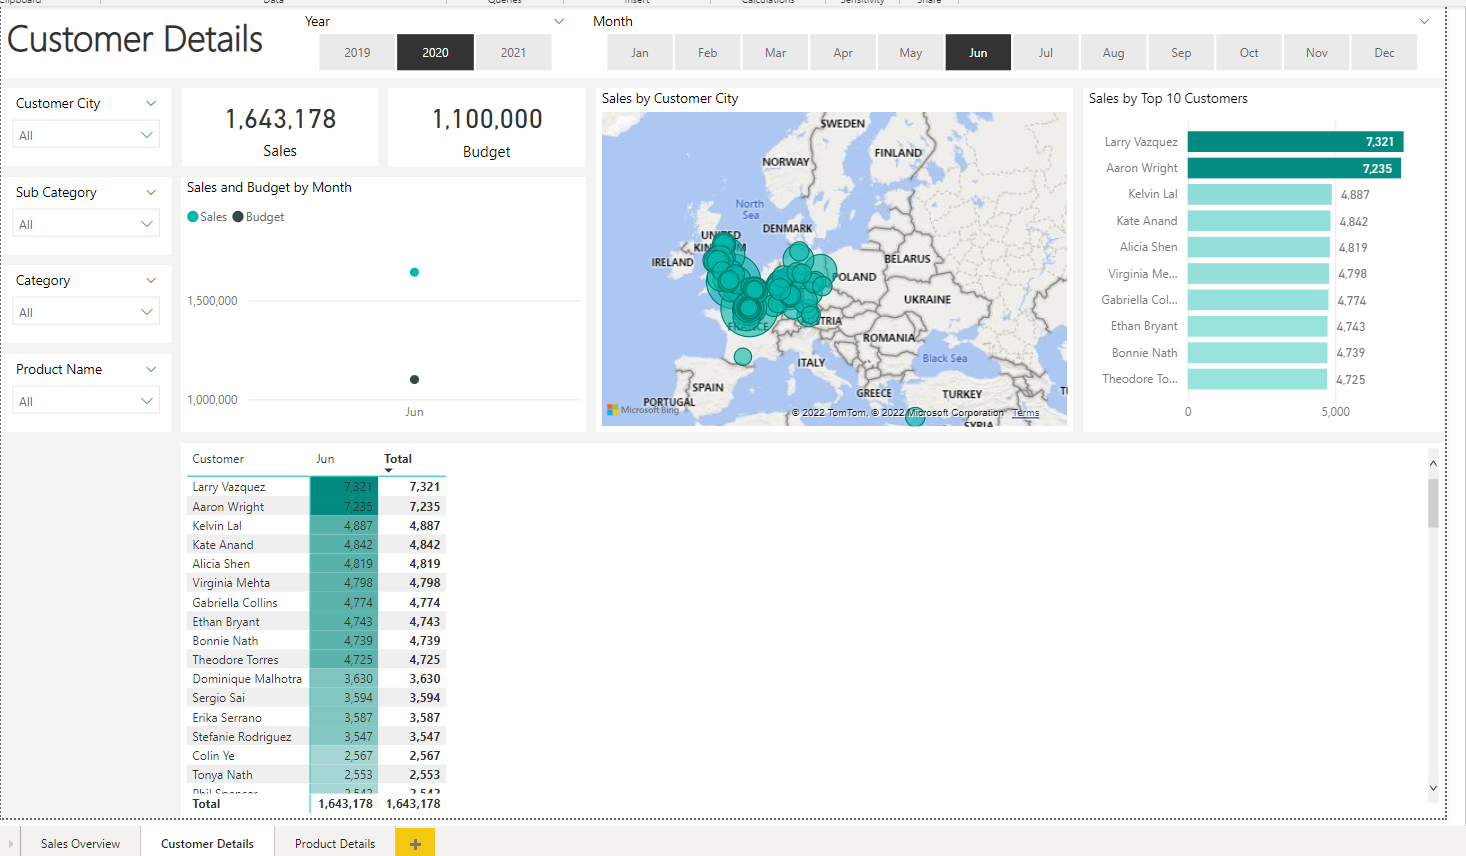

Layout of this report page (visuals, bound fields, positions):
{"tool":"powerbi","page":{"name":"Customer Details","canvas":[1280,720],"ordinal":1},"visuals":[{"type":"textbox","box":[0,0,1280,64],"z":0},{"type":"slicer","fields":{"Values":["DIM_Calendar.Year"]},"box":[256,0,256,64],"z":1000},{"type":"slicer","fields":{"Values":["DIM_Calendar.MonthShort"]},"box":[512,0,768,64],"z":2000},{"type":"slicer","fields":{"Values":["DIM_Customers.Customer City"]},"box":[0,73,150.5,69.3],"z":3000},{"type":"slicer","fields":{"Values":["DIM_Products.Product Category"]},"box":[0,229.9,150.5,69.3],"z":4000},{"type":"slicer","fields":{"Values":["DIM_Products.Product Name"]},"box":[0,308.4,150.5,69.3],"z":5000},{"type":"slicer","fields":{"Values":["DIM_Products.Sub Category"]},"box":[0,151.4,150.5,69.3],"z":6000},{"type":"lineChart","fields":{"Category":["DIM_Calendar.MonthShort"],"Y":["Analysis Metrics.Sales","Analysis Metrics.Budget"]},"box":[159.8,151.8,358.7,226.4],"z":7000},{"type":"card","fields":{"Values":["Analysis Metrics.Sales"]},"box":[160.7,72.8,174,69.2],"z":8000},{"type":"map","fields":{"Category":["DIM_Customers.Customer City"],"Size":["Analysis Metrics.Sales"]},"box":[527.3,72.8,423.5,304.5],"z":9000},{"type":"card","fields":{"Values":["Analysis Metrics.Budget"]},"box":[343.6,72.8,174.9,70.1],"z":10000},{"type":"pivotTable","fields":{"Rows":["DIM_Customers.Full Name"],"Columns":["DIM_Calendar.MonthShort"],"Values":["Analysis Metrics.Sales"]},"box":[159.8,387.1,1120.4,332.9],"z":11000},{"type":"barChart","title":"Sales by Top 10 Customers","fields":{"Category":["DIM_Customers.Full Name"],"Y":["Analysis Metrics.Sales"]},"box":[959.7,72.8,320.5,304.5],"z":12000}]}

Visuals, with their boxes on the page's 1280x720 design canvas (x1, y1, x2, y2). These are canvas units, not pixel positions in the 1466x856 screenshot, which may show the page scaled, cropped or inside an application window:
textbox: (0,0,1280,64)
slicer - DIM_Calendar.Year: (256,0,512,64)
slicer - DIM_Calendar.MonthShort: (512,0,1280,64)
slicer - DIM_Customers.Customer City: (0,73,150,142)
slicer - DIM_Products.Product Category: (0,230,150,299)
slicer - DIM_Products.Product Name: (0,308,150,378)
slicer - DIM_Products.Sub Category: (0,151,150,221)
lineChart - DIM_Calendar.MonthShort x Analysis Metrics.Sales: (160,152,518,378)
card - Analysis Metrics.Sales: (161,73,335,142)
map - DIM_Customers.Customer City x Analysis Metrics.Sales: (527,73,951,377)
card - Analysis Metrics.Budget: (344,73,518,143)
pivotTable - DIM_Customers.Full Name x DIM_Calendar.MonthShort: (160,387,1280,720)
"Sales by Top 10 Customers" barChart: (960,73,1280,377)
